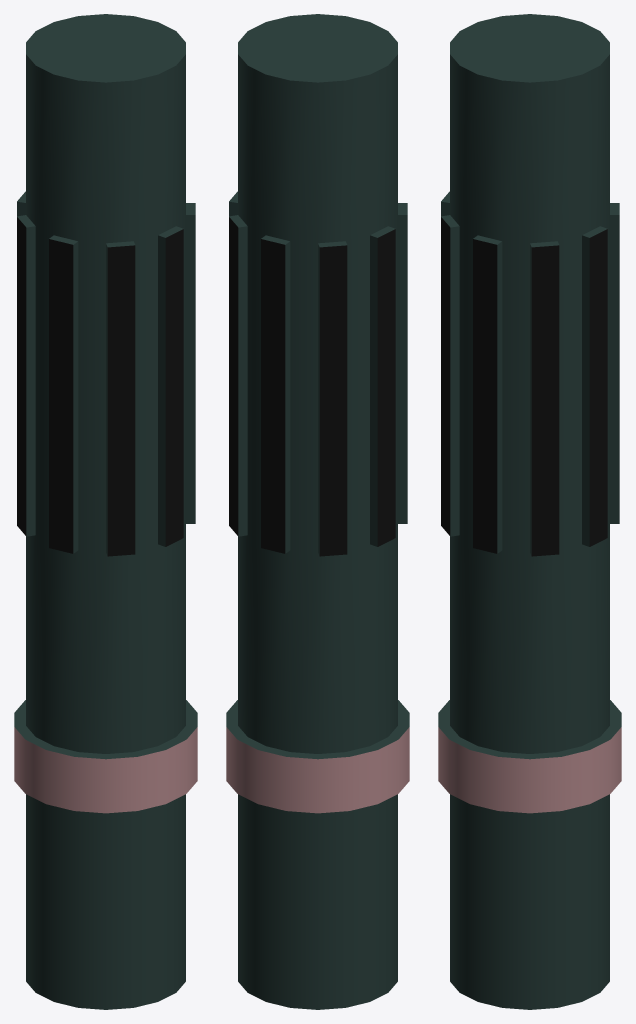
File: cylindre mur.fbx
3 views of the same model, side by side, from view 1: azimuth 30°, elevation 25°; view 2: azimuth 150°, elevation 25°; view 3: azimuth 270°, elevation 25° (orthographic).
Parts seen in each view (by area): view 1: Cylinder026; view 2: Cylinder026; view 3: Cylinder026.
Boxes of the visible parts, box(x1,y1,x2,y2) form: Cylinder026: box(14, 14, 197, 1009); Cylinder026: box(226, 14, 409, 1009); Cylinder026: box(438, 14, 621, 1009).
Bounding box in the file's own units: 190 × 1041 × 187.
